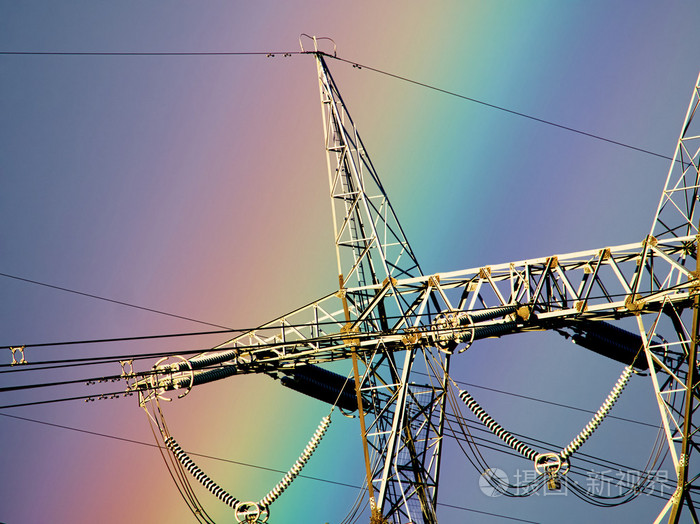insulator: (559, 365, 634, 456), (260, 416, 330, 510), (458, 387, 539, 461), (164, 437, 238, 510)
